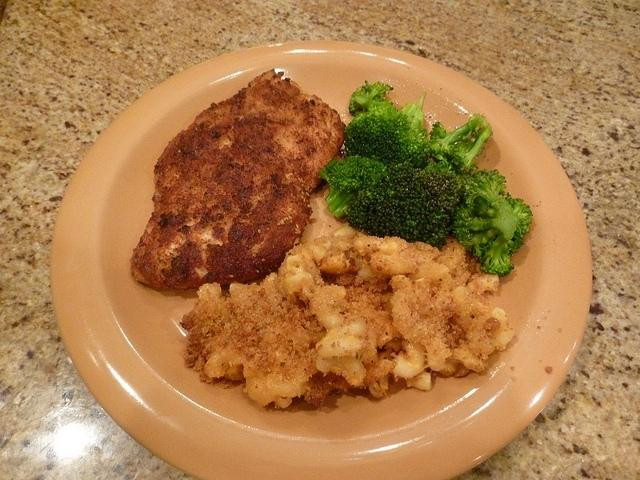broccoli: (345, 160, 462, 249), (451, 169, 534, 277), (344, 92, 431, 172), (318, 156, 388, 218), (428, 113, 494, 176), (348, 80, 396, 118)
